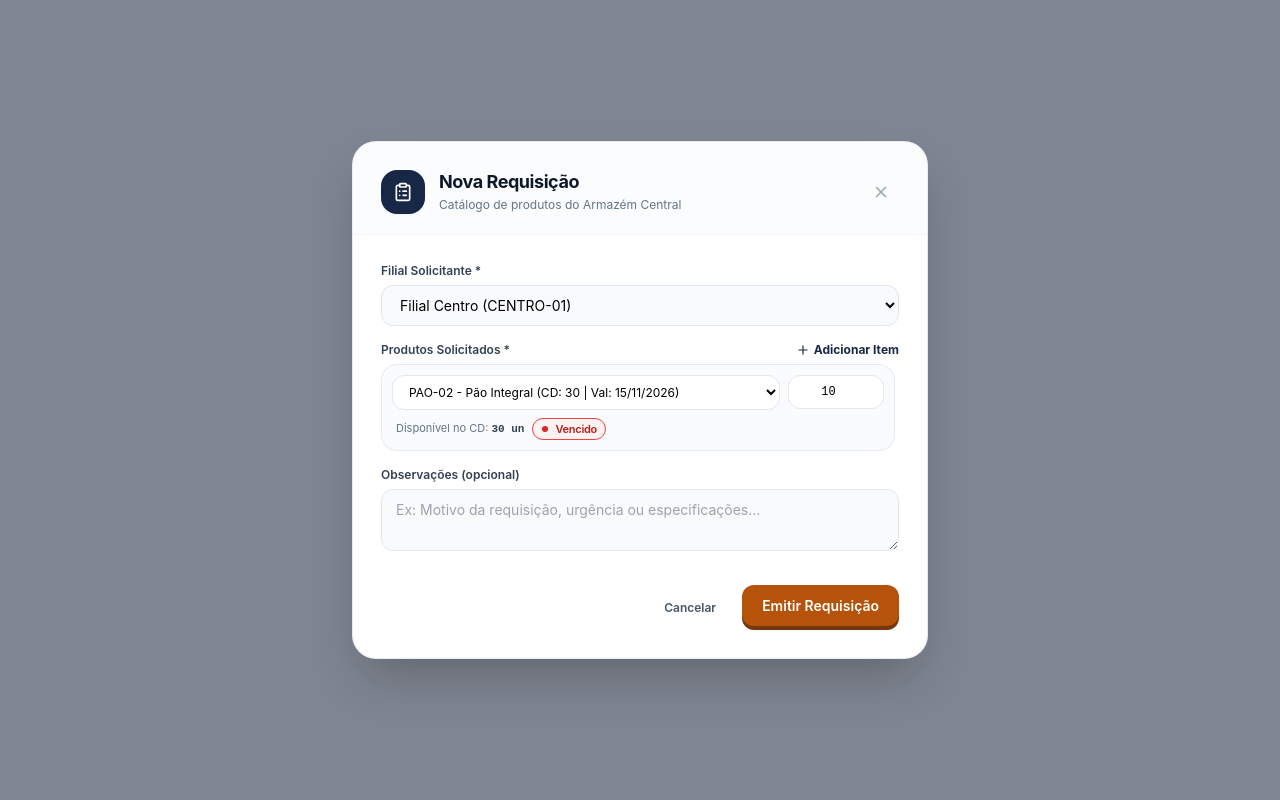
Scenario: RequisitionModal › evita duplicação de produtos ao adicionar itens
Click the button "Adicionar Item" at (847, 350), box x1=796 y1=342 x2=899 y2=358
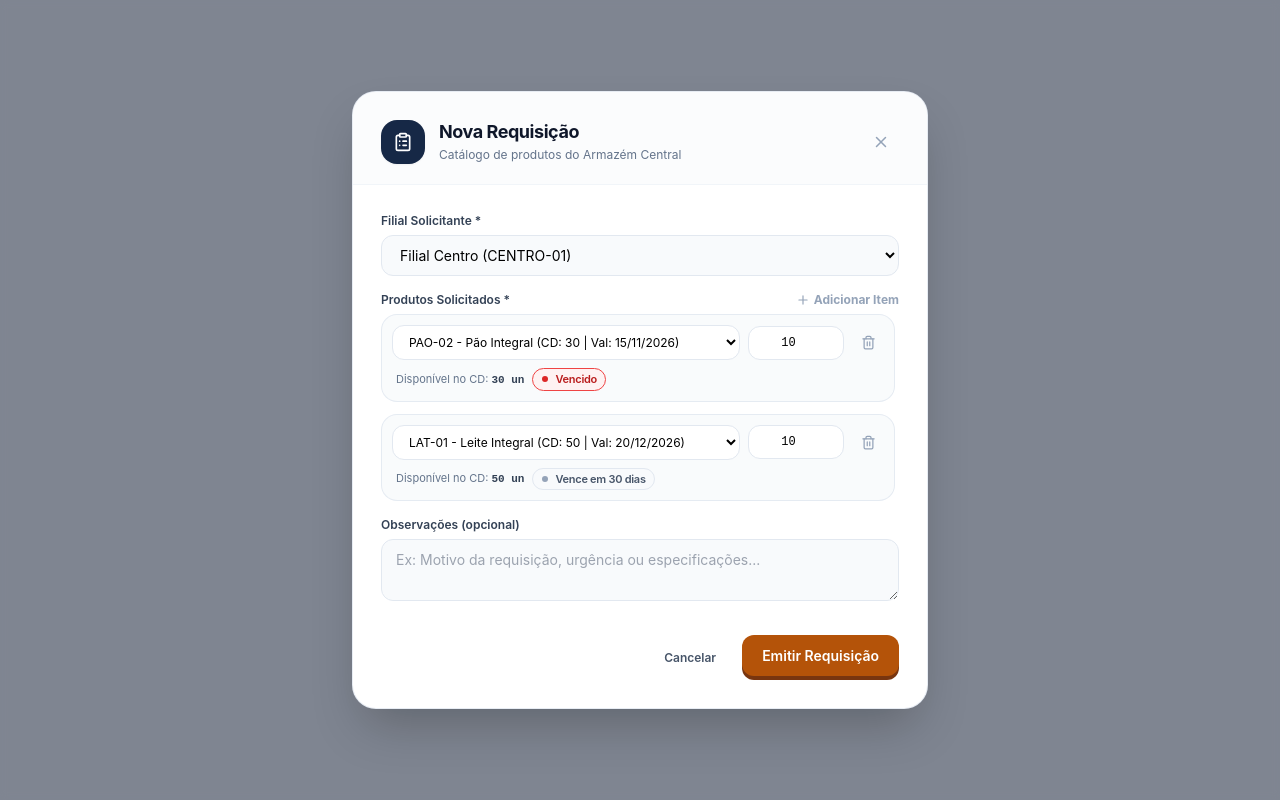
Expected: the number of dropdowns is 3, x1=381 y1=235 x2=899 y2=276; x1=392 y1=325 x2=740 y2=360; x1=392 y1=424 x2=740 y2=460
Result: the 3rd dropdown shows "LAT-01 - Leite Integral (CD: 50 | Val: 20/12/2026)" at x1=392 y1=424 x2=740 y2=460
Result: the button "Adicionar Item" is disabled at x1=796 y1=292 x2=899 y2=308
